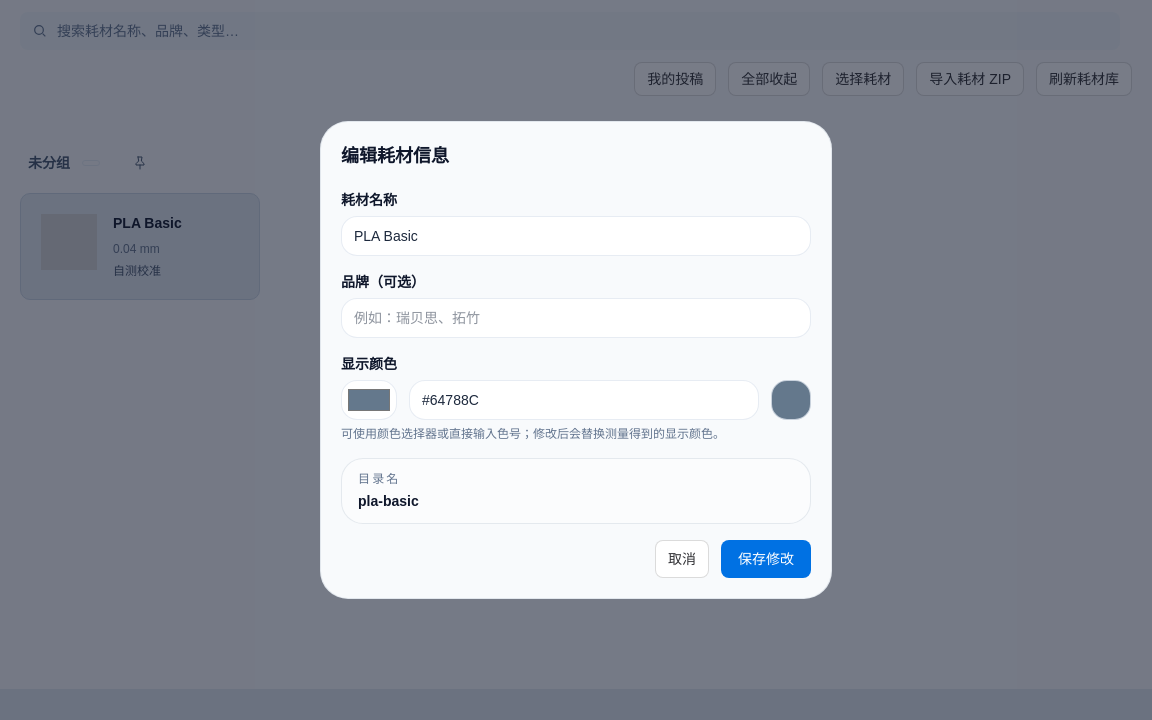
MaterialLibraryPanel › rejects invalid hex input in the edit dialog
This screenshot has width=1152, height=720.
Earlier steps of the test are not shown.
Replace the text in the field with test id "material-library-edit-color-hex-input" with "not-a-color" at (584, 400), box [409,380,759,420]
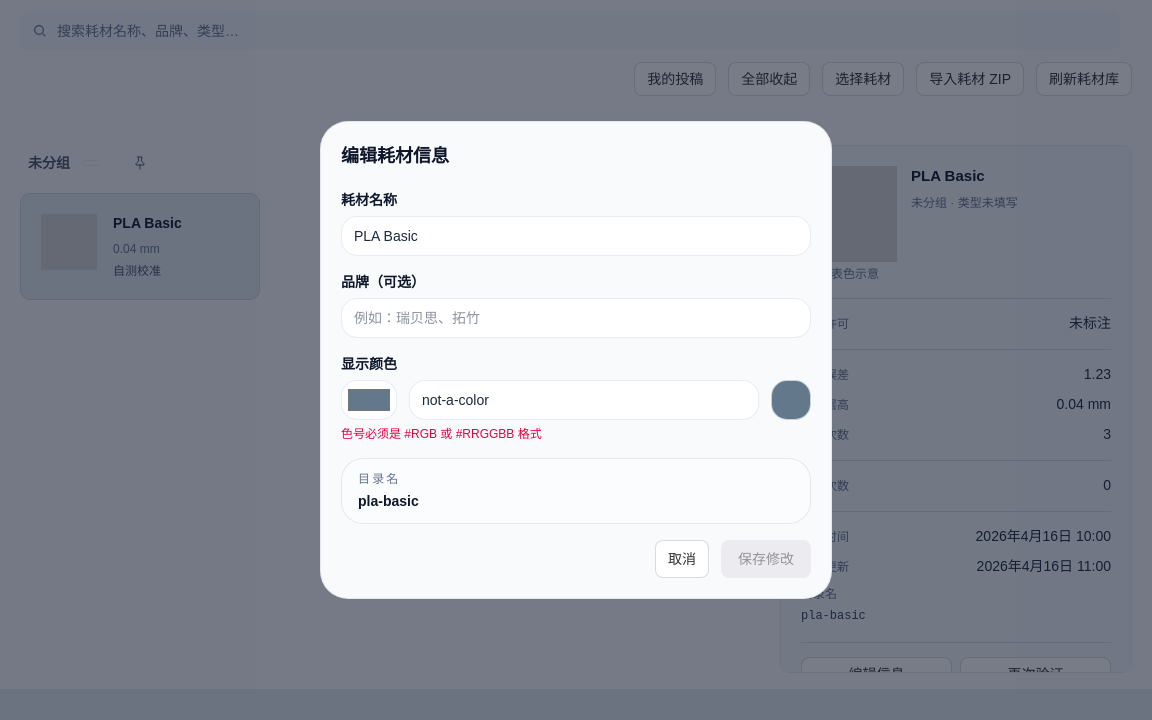
Check: the text "色号必须是 #RGB 或 #RRGGBB 格式" is shown, box [341,427,542,441]
